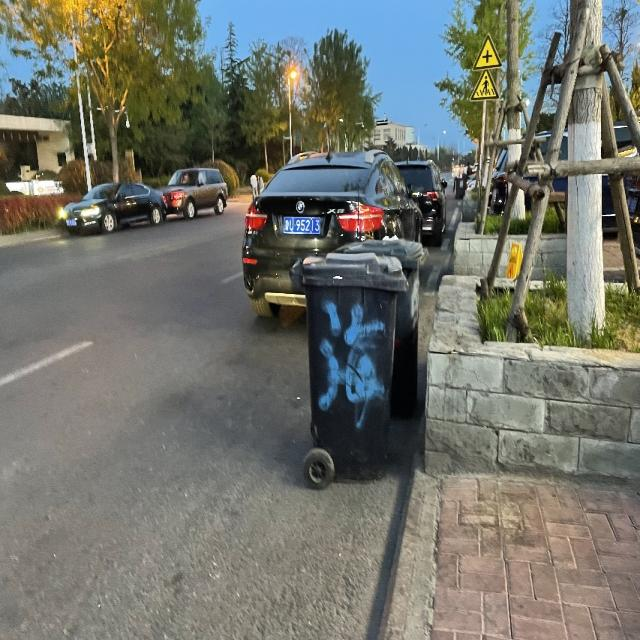garbage_bin: (288, 252, 408, 479), (335, 234, 427, 414)
